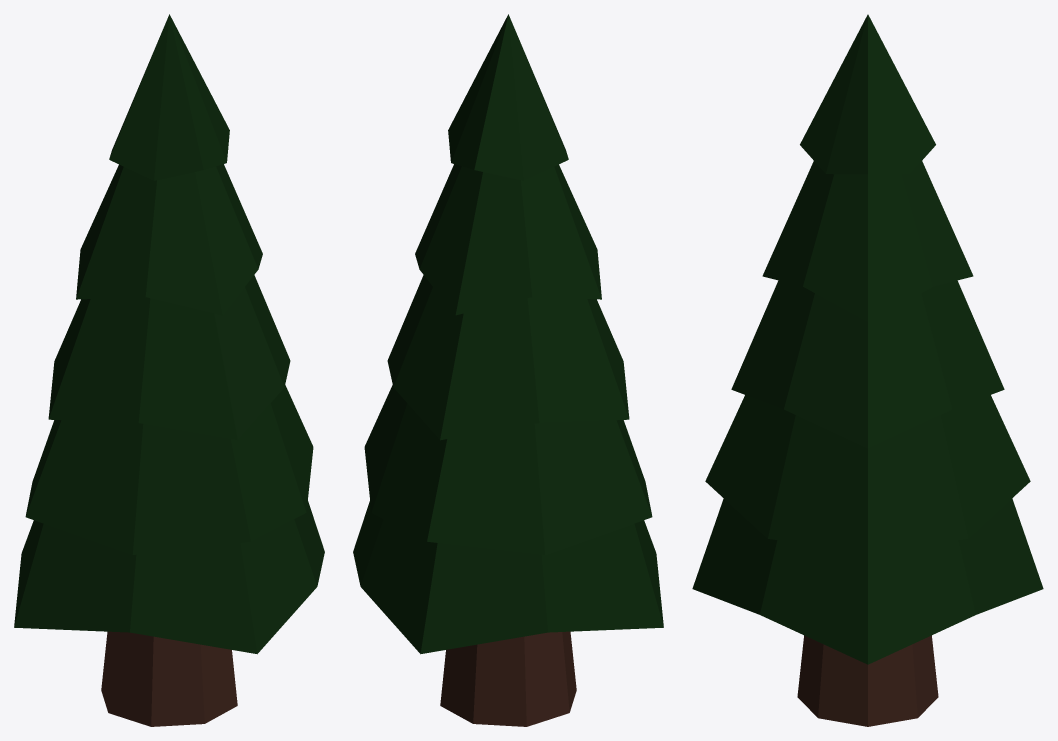
Rendered from Arvore.fbx.
3 views of the same model, side by side, from view 1: azimuth 30°, elevation 25°; view 2: azimuth 150°, elevation 25°; view 3: azimuth 270°, elevation 25° (orthographic).
Parts seen in each view (by area): view 1: Cylinder; view 2: Cylinder; view 3: Cylinder.
Part boxes in pixels (x1=…): Cylinder: x1=14, y1=14, x2=324, y2=726; Cylinder: x1=353, y1=14, x2=663, y2=726; Cylinder: x1=692, y1=14, x2=1043, y2=726.
Size of the model in its own units: 508 by 1068 by 498.
